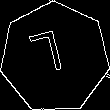L_S: (34, 29, 75, 86)
